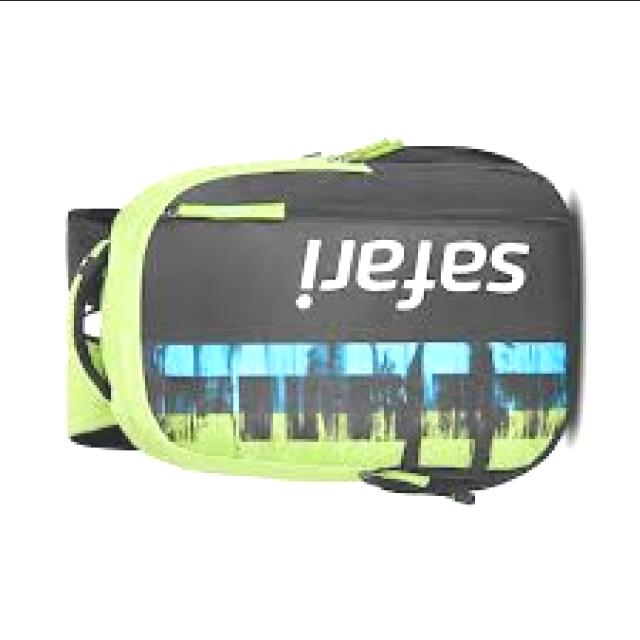backpack: (64, 141, 582, 508)
